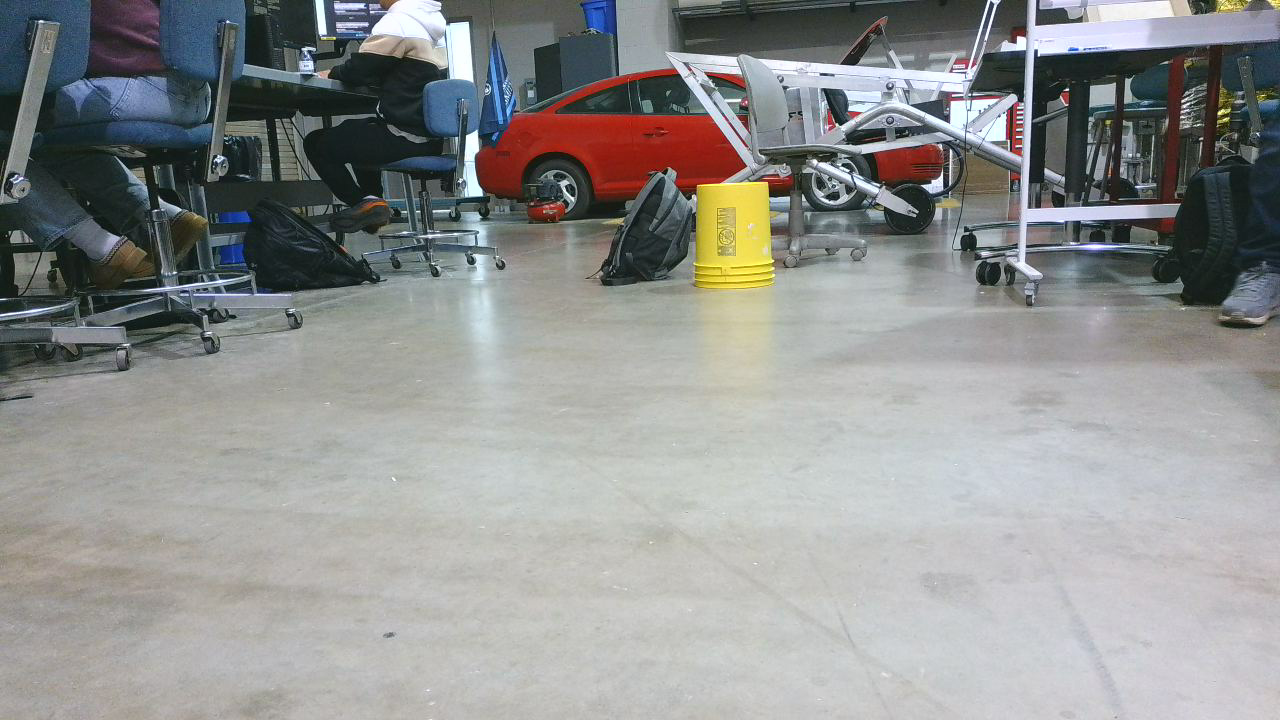yellow_bucket: (696, 189, 781, 295)
